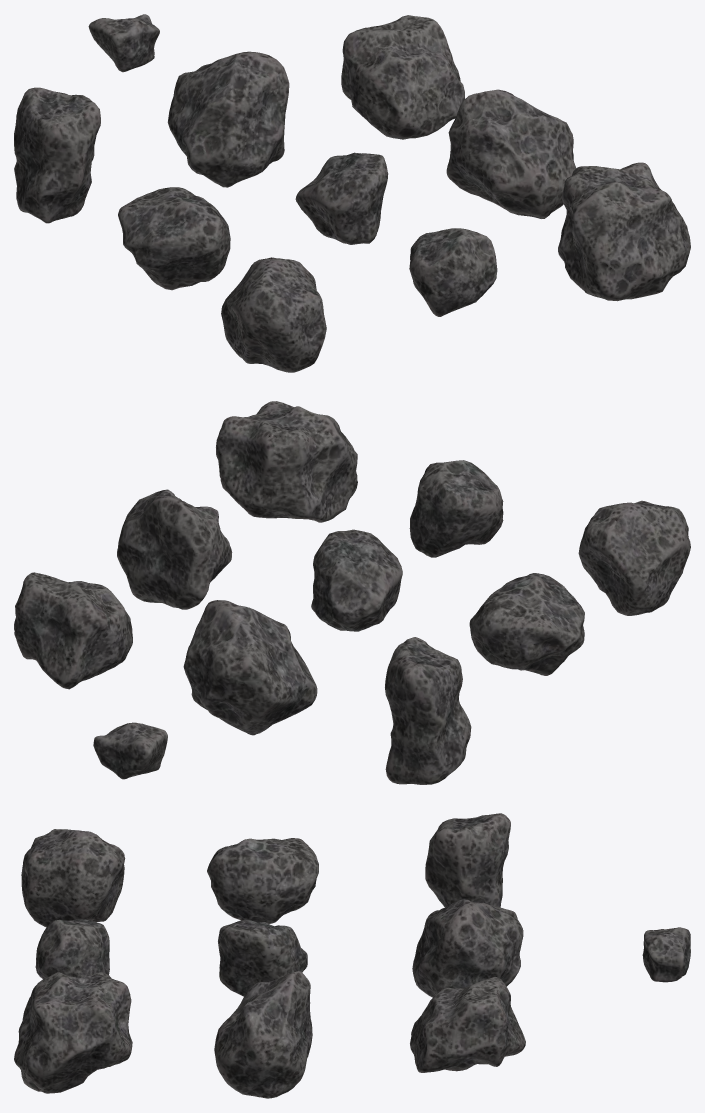
Rendered from asteroids.glb.
The picture shows the model from 3 angles, top to bottom: view 1: azimuth 30°, elevation 25°; view 2: azimuth 150°, elevation 25°; view 3: azimuth 270°, elevation 25°; orthographic projection. The views are drawn at different scales.
Parts seen in each view (by area): view 1: Asteroid_no_1_Material #3_0, Asteroid_no_8_Material #3_0, Asteroid_no_4_Material #3_0, Asteroid_no_7_Material #3_0, Asteroid_no_9_Material #3_0, Asteroid_no_3_Material #3_0, Asteroid_no_6_Material #3_0, Asteroid_no_5_Material #3_0, Asteroid_no_2_Material #3_0, Asteroid_no_10_Material #3_0; view 2: Asteroid_no_1_Material #3_0, Asteroid_no_8_Material #3_0, Asteroid_no_7_Material #3_0, Asteroid_no_9_Material #3_0, Asteroid_no_4_Material #3_0, Asteroid_no_3_Material #3_0, Asteroid_no_6_Material #3_0, Asteroid_no_5_Material #3_0, Asteroid_no_2_Material #3_0, Asteroid_no_10_Material #3_0; view 3: Asteroid_no_1_Material #3_0, Asteroid_no_4_Material #3_0, Asteroid_no_3_Material #3_0, Asteroid_no_8_Material #3_0, Asteroid_no_7_Material #3_0, Asteroid_no_6_Material #3_0, Asteroid_no_9_Material #3_0, Asteroid_no_5_Material #3_0, Asteroid_no_2_Material #3_0, Asteroid_no_10_Material #3_0.
Part boxes in pixels (left/top/right/bottom): Asteroid_no_1_Material #3_0: left=558, top=162, right=690, bottom=301; Asteroid_no_8_Material #3_0: left=167, top=51, right=289, bottom=187; Asteroid_no_4_Material #3_0: left=446, top=89, right=576, bottom=218; Asteroid_no_7_Material #3_0: left=341, top=15, right=464, bottom=139; Asteroid_no_9_Material #3_0: left=14, top=87, right=100, bottom=223; Asteroid_no_3_Material #3_0: left=221, top=257, right=326, bottom=372; Asteroid_no_6_Material #3_0: left=118, top=187, right=230, bottom=290; Asteroid_no_5_Material #3_0: left=295, top=152, right=388, bottom=244; Asteroid_no_2_Material #3_0: left=409, top=228, right=497, bottom=316; Asteroid_no_10_Material #3_0: left=88, top=14, right=159, bottom=72; Asteroid_no_1_Material #3_0: left=216, top=401, right=357, bottom=522; Asteroid_no_8_Material #3_0: left=183, top=600, right=317, bottom=735; Asteroid_no_7_Material #3_0: left=14, top=572, right=132, bottom=689; Asteroid_no_9_Material #3_0: left=385, top=637, right=471, bottom=784; Asteroid_no_4_Material #3_0: left=117, top=489, right=232, bottom=609; Asteroid_no_3_Material #3_0: left=578, top=500, right=690, bottom=615; Asteroid_no_6_Material #3_0: left=469, top=573, right=584, bottom=675; Asteroid_no_5_Material #3_0: left=311, top=529, right=402, bottom=631; Asteroid_no_2_Material #3_0: left=409, top=460, right=503, bottom=557; Asteroid_no_10_Material #3_0: left=93, top=722, right=167, bottom=779; Asteroid_no_1_Material #3_0: left=14, top=972, right=132, bottom=1093; Asteroid_no_4_Material #3_0: left=214, top=971, right=312, bottom=1098; Asteroid_no_3_Material #3_0: left=21, top=829, right=125, bottom=927; Asteroid_no_8_Material #3_0: left=412, top=899, right=523, bottom=997; Asteroid_no_7_Material #3_0: left=410, top=977, right=525, bottom=1072; Asteroid_no_6_Material #3_0: left=207, top=838, right=318, bottom=923; Asteroid_no_9_Material #3_0: left=425, top=813, right=510, bottom=907; Asteroid_no_5_Material #3_0: left=218, top=920, right=307, bottom=996; Asteroid_no_2_Material #3_0: left=35, top=919, right=109, bottom=978; Asteroid_no_10_Material #3_0: left=642, top=927, right=690, bottom=982.
Bounding box in the file's own units: 34.3 × 9.09 × 48.14.
1 material, 1 textured.
